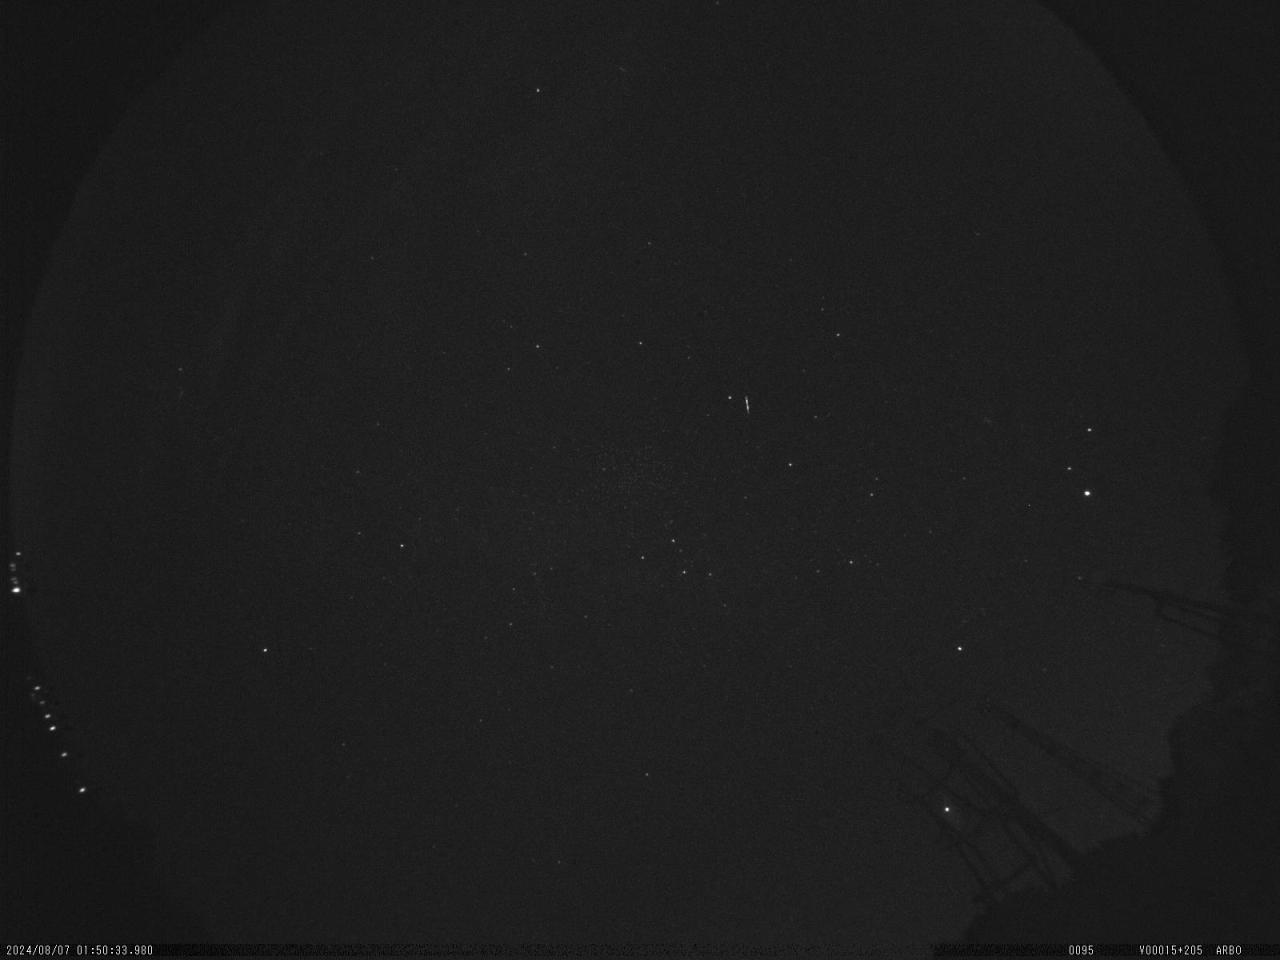Meteor: (742, 390, 756, 424)
